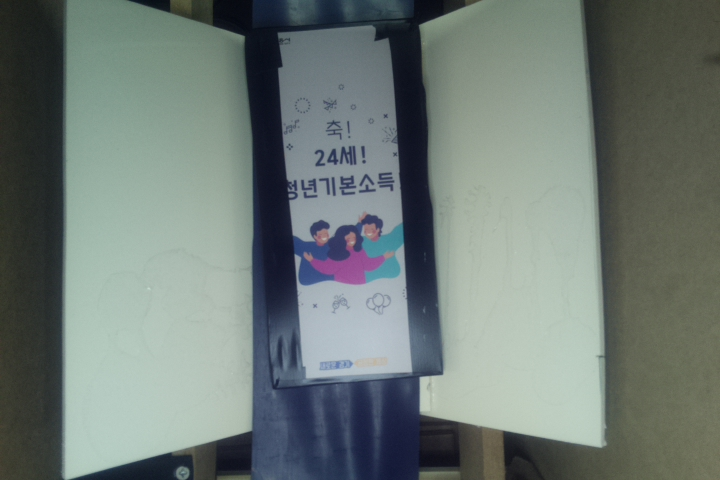book: (241, 18, 444, 391)
